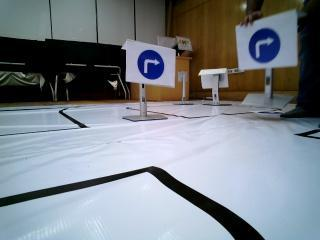right: (238, 14, 299, 71), (125, 38, 176, 86)
